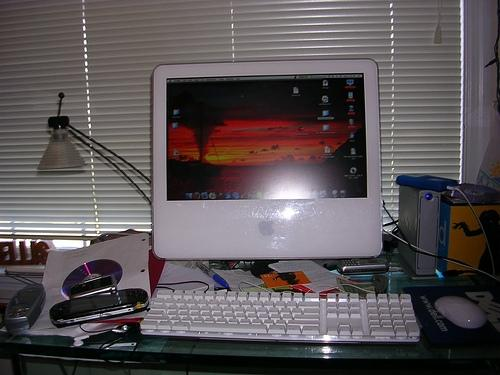apple: (258, 220, 274, 236)
